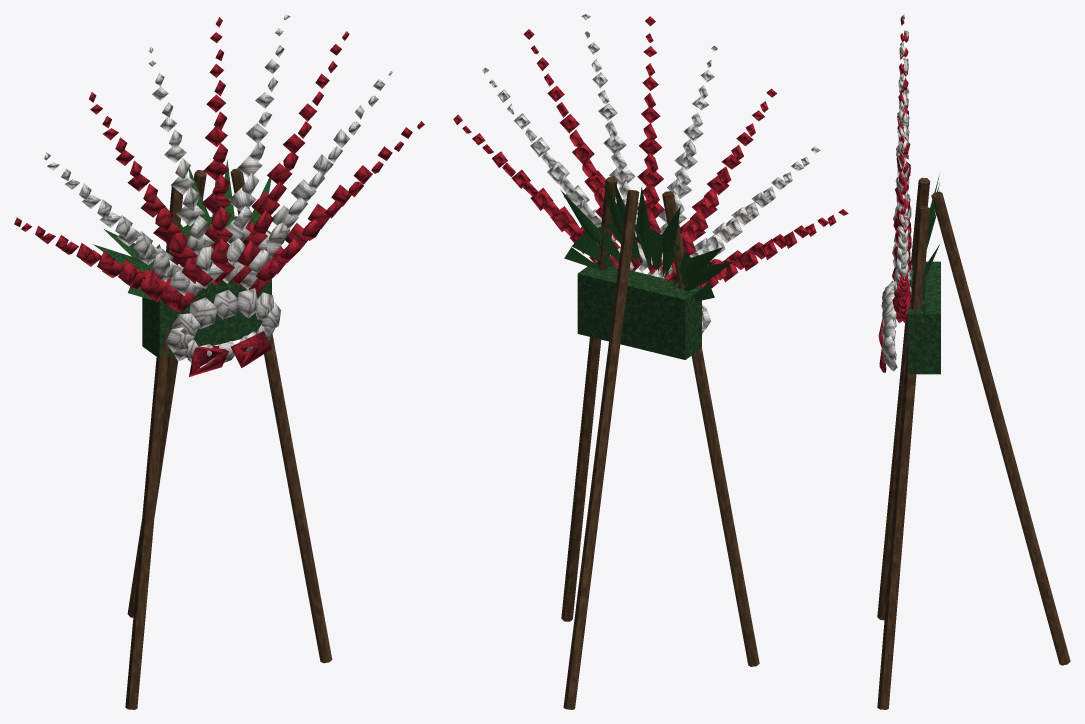
Rendered from corona_gladiolas_lod.obj.
The picture shows the model from 3 angles, left to right: view 1: azimuth 30°, elevation 25°; view 2: azimuth 150°, elevation 25°; view 3: azimuth 270°, elevation 25°; orthographic projection. The views are drawn at different scales.
Visible parts, largest first — view 1: Flores_Petalo_Blanco, Flores_Petalo_Rojo, Cylinder, Cylinder.001, Cube, Flores_Hoja_Verde_Oscuro, Mono, Cylinder.002; view 2: Flores_Petalo_Rojo, Cube, Flores_Petalo_Blanco, Cylinder.002, Flores_Hoja_Verde_Oscuro, Cylinder, Cylinder.001; view 3: Cylinder.002, Cylinder.001, Flores_Petalo_Blanco, Cube, Cylinder, Flores_Petalo_Rojo, Flores_Hoja_Verde_Oscuro.
Boxes of the visible parts, x1,y1,x2,y2 form: Flores_Petalo_Blanco: (44,14,392,365); Flores_Petalo_Rojo: (14,17,424,312); Cylinder: (125,186,182,709); Cylinder.001: (230,168,332,663); Cube: (142,279,271,358); Flores_Hoja_Verde_Oscuro: (93,160,281,299); Mono: (189,331,271,376); Cylinder.002: (127,170,206,617); Flores_Petalo_Rojo: (453,16,848,288); Cube: (577,261,701,359); Flores_Petalo_Blanco: (482,14,820,333); Cylinder.002: (563,190,639,709); Flores_Hoja_Verde_Oscuro: (560,181,732,301); Cylinder: (662,191,759,666); Cylinder.001: (561,177,617,621); Cylinder.002: (931,191,1070,665); Cylinder.001: (877,206,930,709); Flores_Petalo_Blanco: (881,14,912,371); Cube: (908,261,940,374); Cylinder: (877,177,930,620); Flores_Petalo_Rojo: (892,18,911,322); Flores_Hoja_Verde_Oscuro: (920,175,939,319).
Bounding box in the file's own units: 1.1 × 1.69 × 0.4675.
5 materials, 5 textured.
